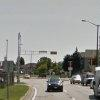Car: (43, 69, 67, 93)
